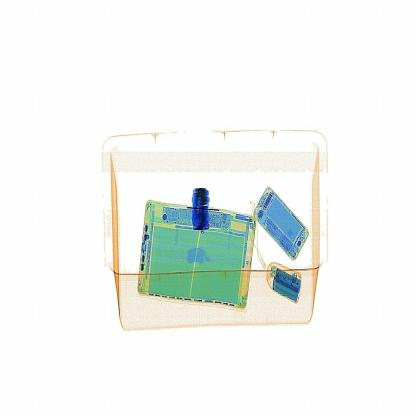scissors: (188, 180, 219, 233)
